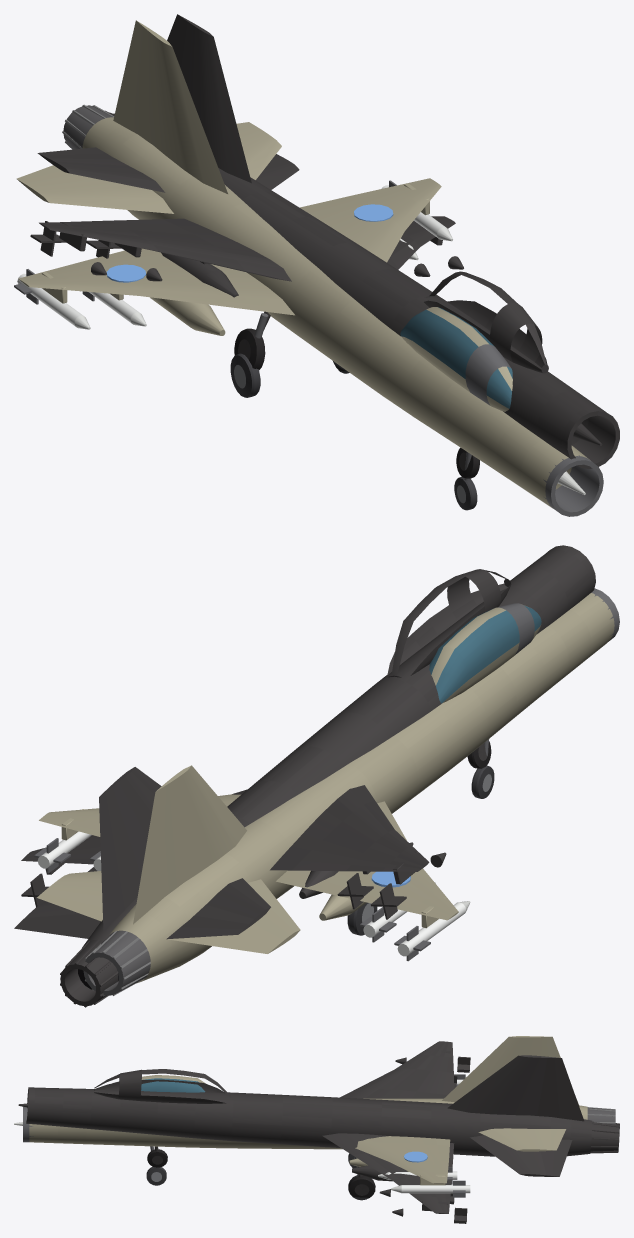
File: jet__f_7ni.glb
3 views of the same model, one above another, from view 1: azimuth 30°, elevation 25°; view 2: azimuth 150°, elevation 25°; view 3: azimuth 270°, elevation 25° (orthographic). The views are drawn at different scales.
Visible parts, largest first — view 1: Fuselage_Mesh, Wreck; view 2: Fuselage_Mesh, Wreck; view 3: Wreck, Fuselage_Mesh.
Boxes of the visible parts, x1=… form: Fuselage_Mesh: x1=14, y1=20, x2=603, y2=516; Wreck: x1=30, y1=14, x2=619, y2=478; Fuselage_Mesh: x1=34, y1=588, x2=619, y2=996; Wreck: x1=14, y1=545, x2=595, y2=1007; Wreck: x1=18, y1=1041, x2=619, y2=1223; Fuselage_Mesh: x1=14, y1=1036, x2=615, y2=1200.
Size of what is drawn, in the model's own units: 7.43 by 4.1 by 15.18.
